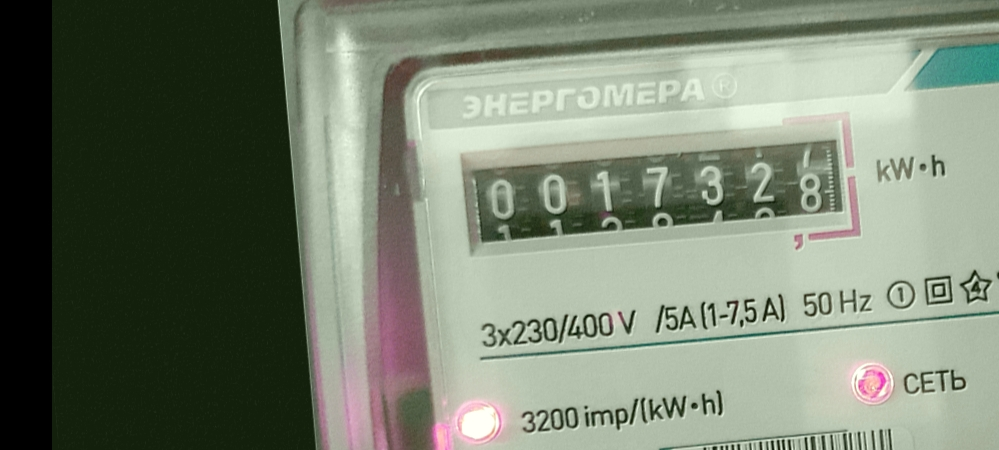0: (485, 176, 521, 223), (539, 169, 571, 217)
1: (593, 166, 618, 214)
2: (745, 159, 778, 206)
3: (697, 162, 727, 208)
7: (643, 163, 673, 212)
8: (796, 170, 825, 215)
screen: (451, 113, 870, 276)
